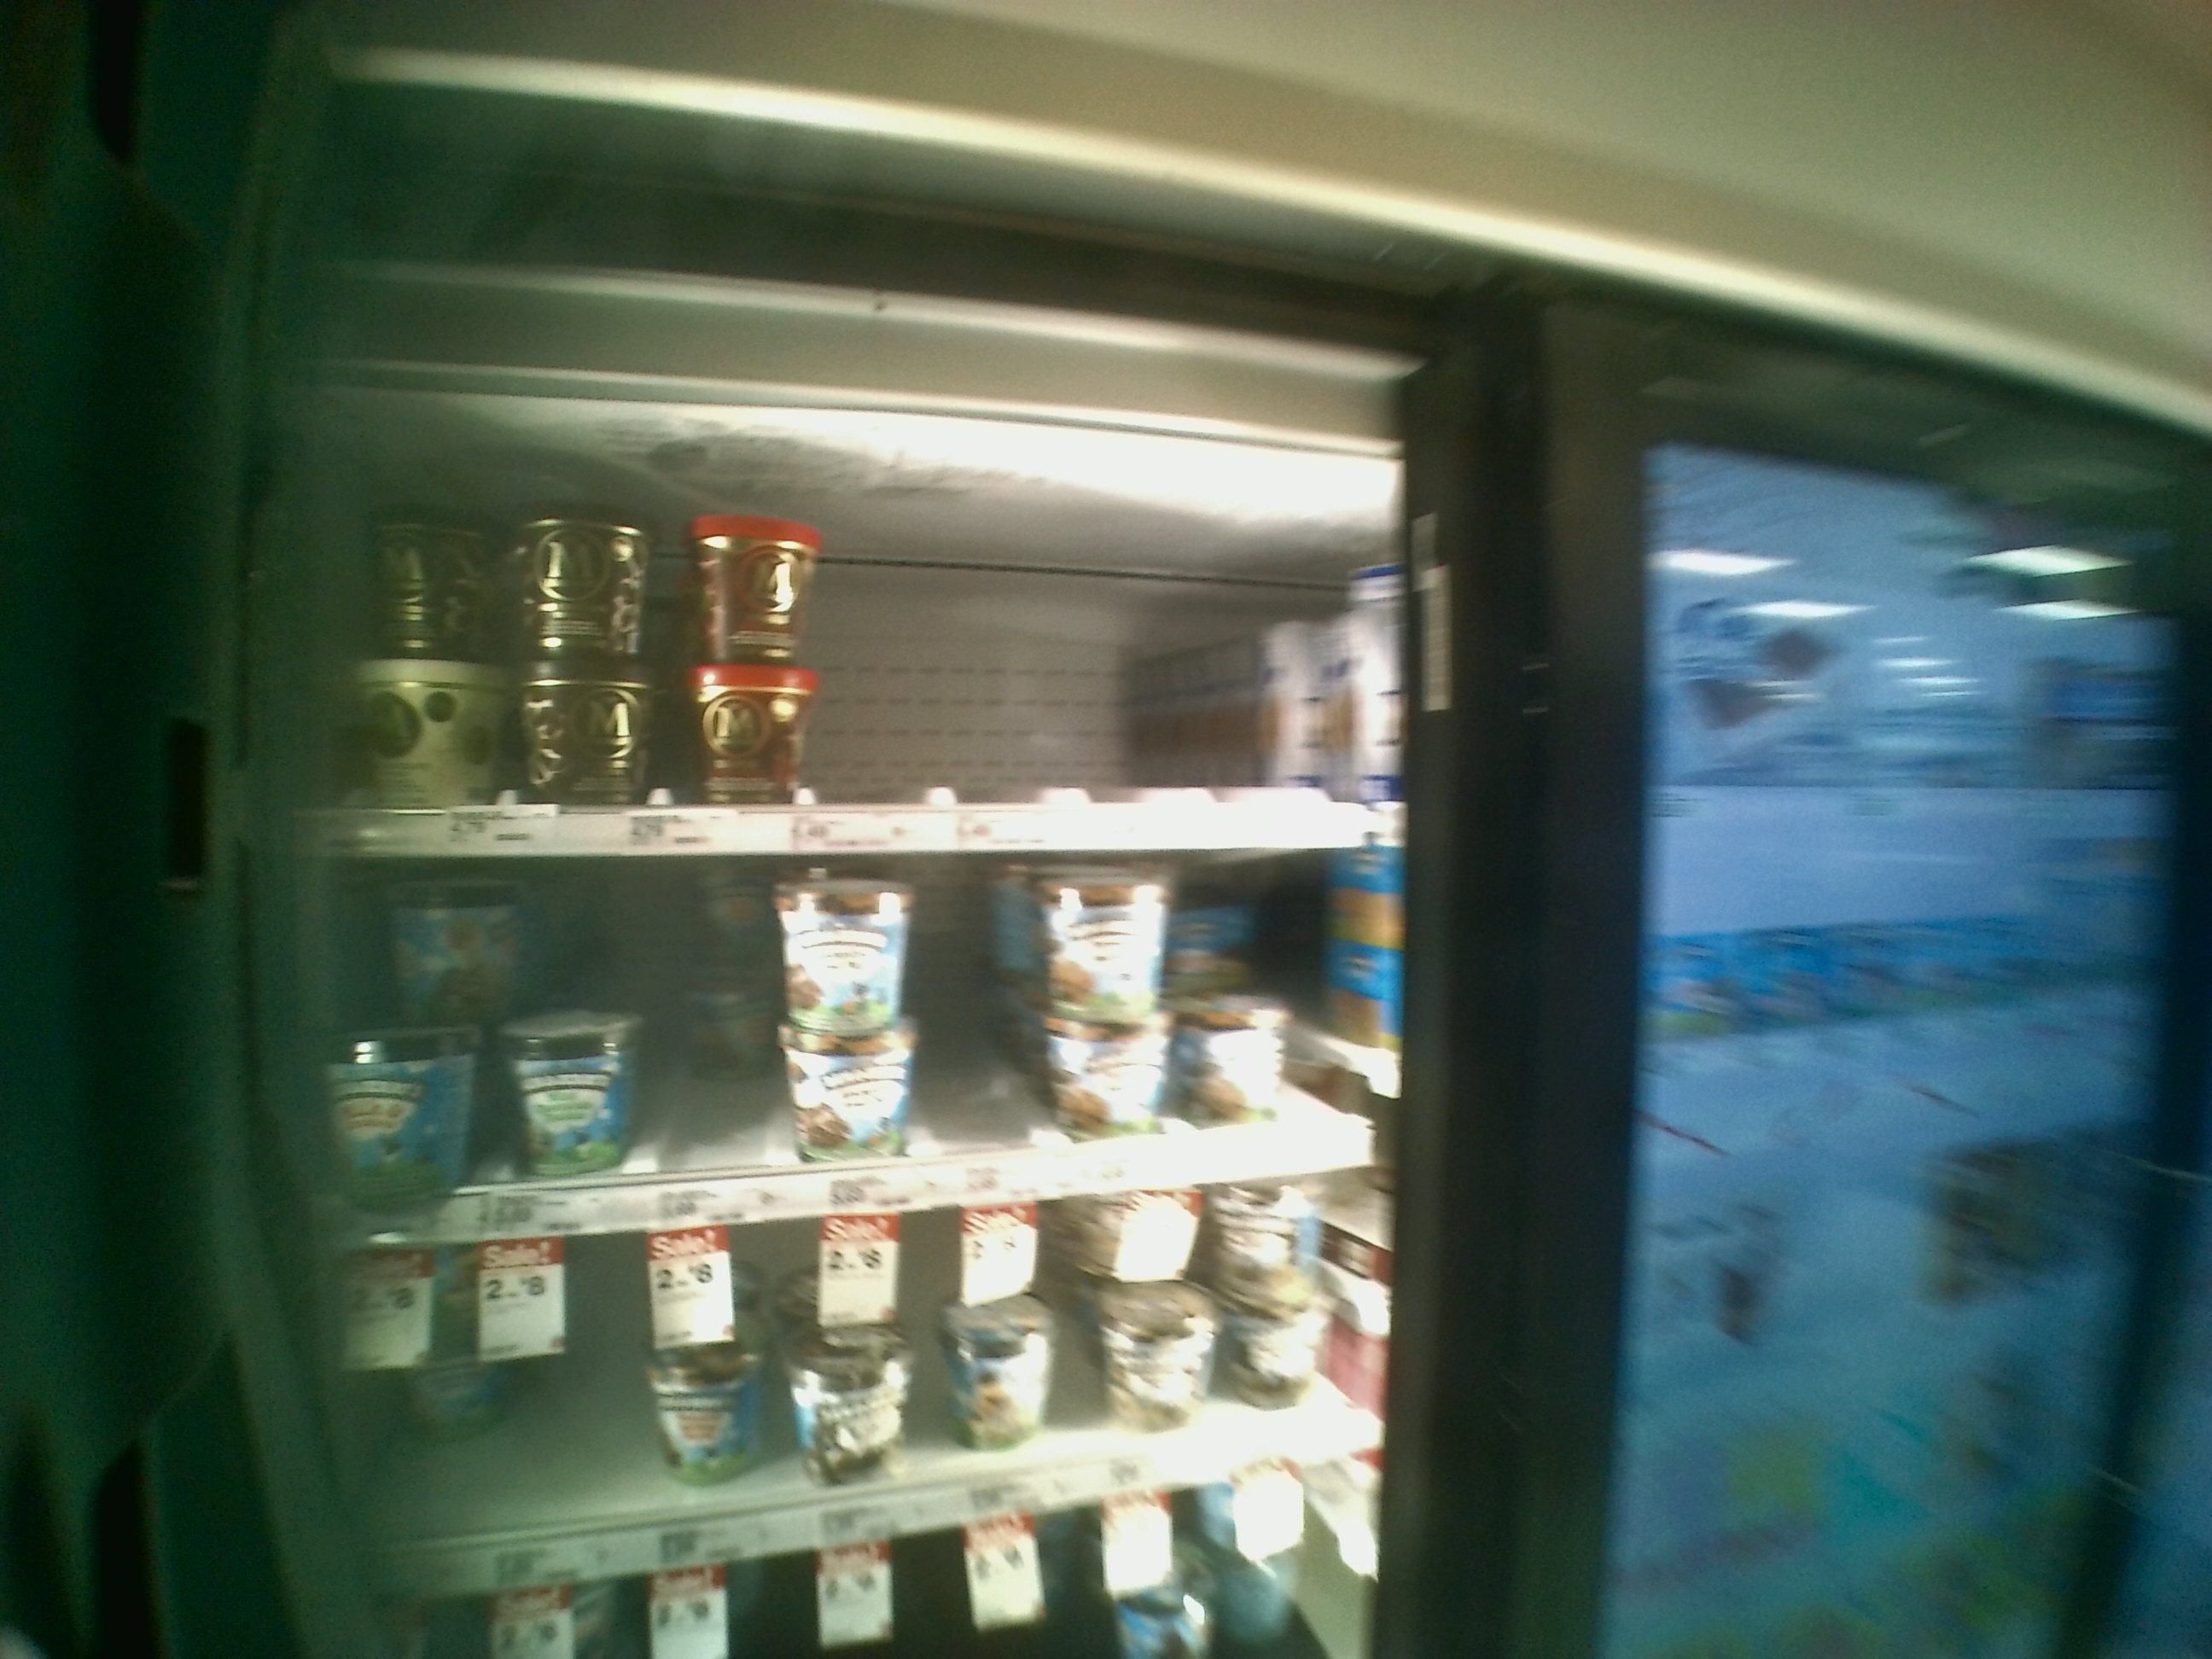shelf: (301, 329, 1439, 854), (307, 859, 1425, 1239)
